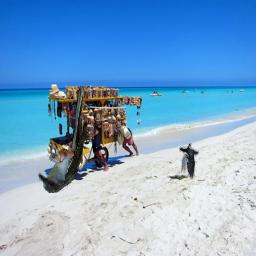Crow: (179, 144, 199, 181)
Cuckoo: (39, 87, 88, 194)
